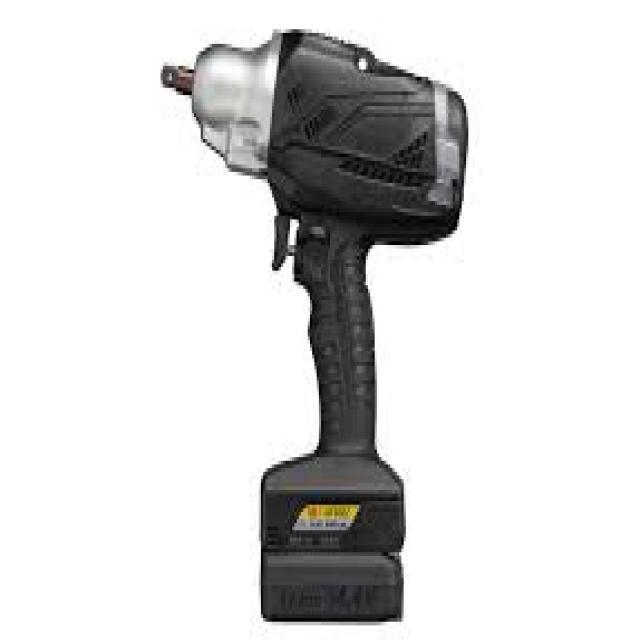drill: (152, 19, 480, 636)
